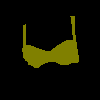reggiseno: (22, 15, 79, 68)
